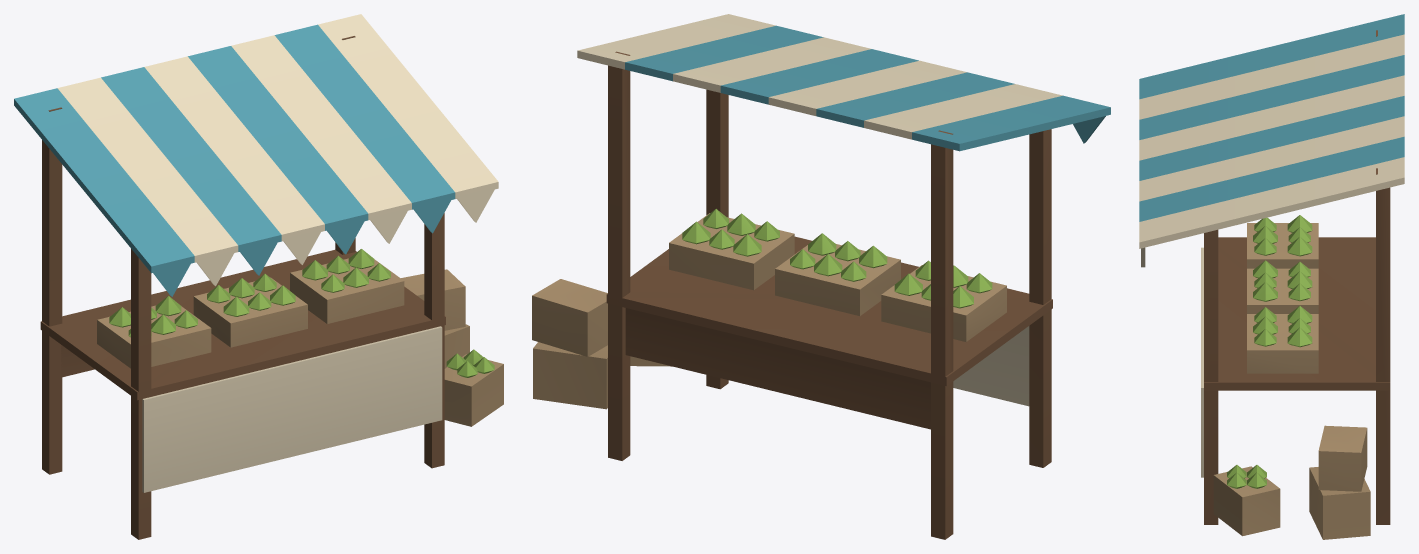
File: stall_2.glb
The picture shows the model from 3 angles, left to right: view 1: azimuth 30°, elevation 25°; view 2: azimuth 150°, elevation 25°; view 3: azimuth 270°, elevation 25°; orthographic projection. The views are drawn at different scales.
Parts seen in each view (by area): view 1: stall_2; view 2: stall_2; view 3: stall_2.
Part boxes in pixels (left/top/right/bottom): stall_2: left=14, top=14, right=503, bottom=539; stall_2: left=532, top=14, right=1110, bottom=539; stall_2: left=1139, top=14, right=1404, bottom=539.
Bounding box in the file's own units: 3.22 × 2.75 × 1.85.
